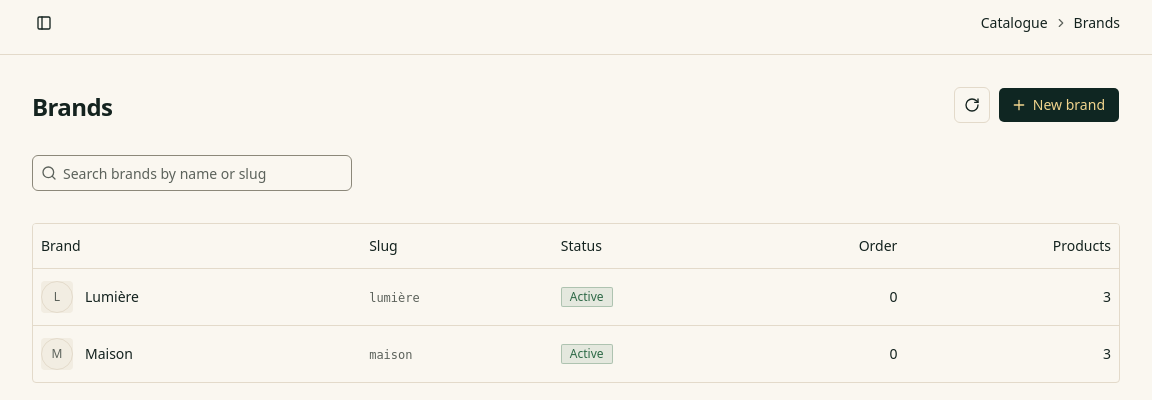
it: brands › searches the loaded list without asking the API again
Expected: the text "Maison" is shown, [85, 344, 133, 364]
In the search field: [204, 173] box [57, 155, 351, 191], type "lumi"
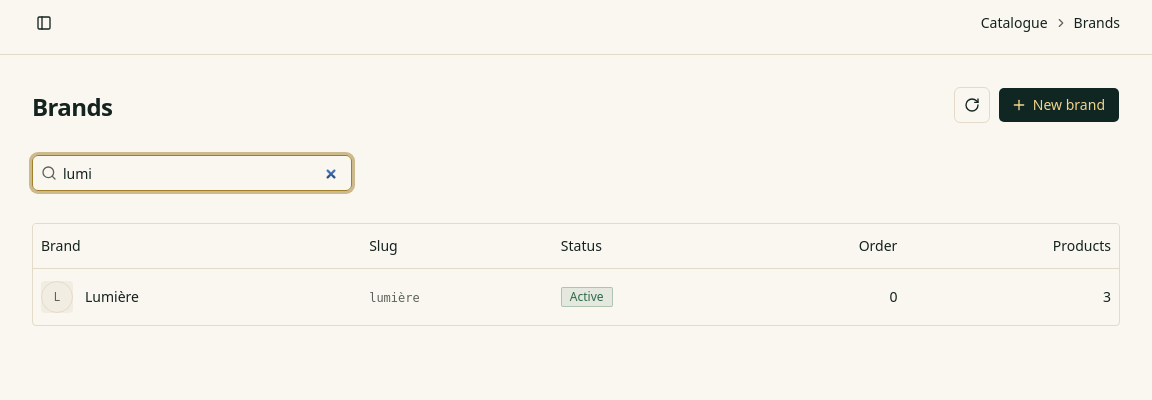
Expected: the text "Lumière" is shown, [85, 286, 139, 306]
Result: the text "Maison" is gone
